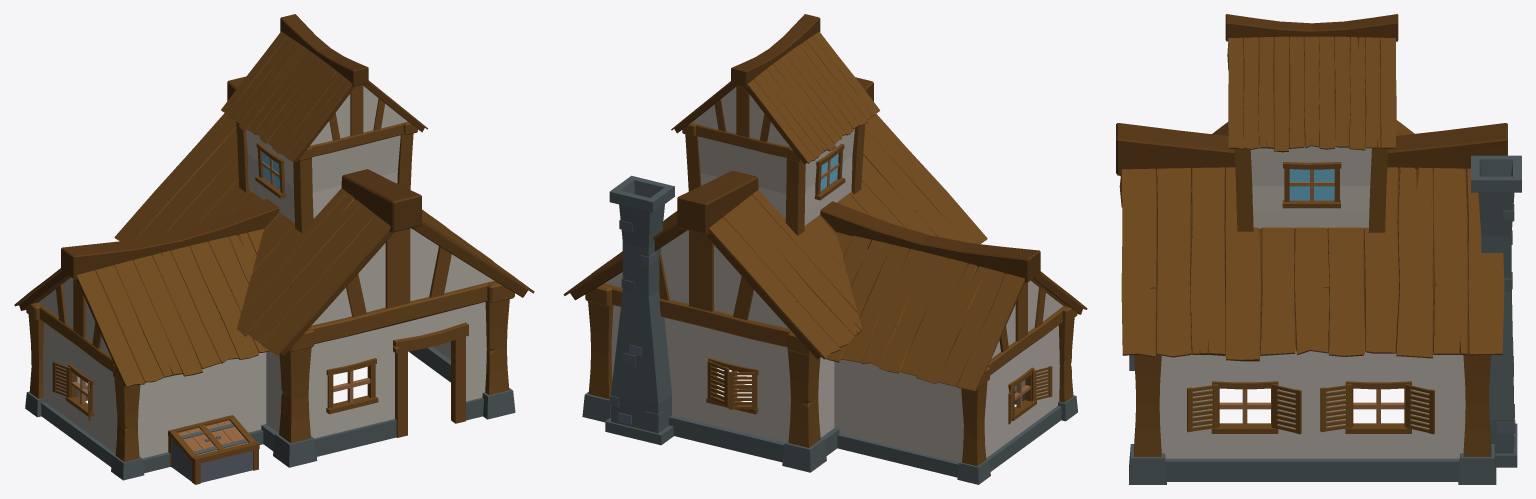
File: House_06.fbx
3 views of the same model, side by side, from view 1: azimuth 30°, elevation 25°; view 2: azimuth 150°, elevation 25°; view 3: azimuth 270°, elevation 25° (orthographic). The views are drawn at different scales.
Visible parts, largest first — view 1: House_06; view 2: House_06; view 3: House_06.
Part boxes in pixels (bbox=[...]): House_06: bbox=[14, 14, 534, 484]; House_06: bbox=[563, 14, 1087, 484]; House_06: bbox=[1116, 14, 1521, 484].
Size of the model in its own units: 900 by 753 by 688.
